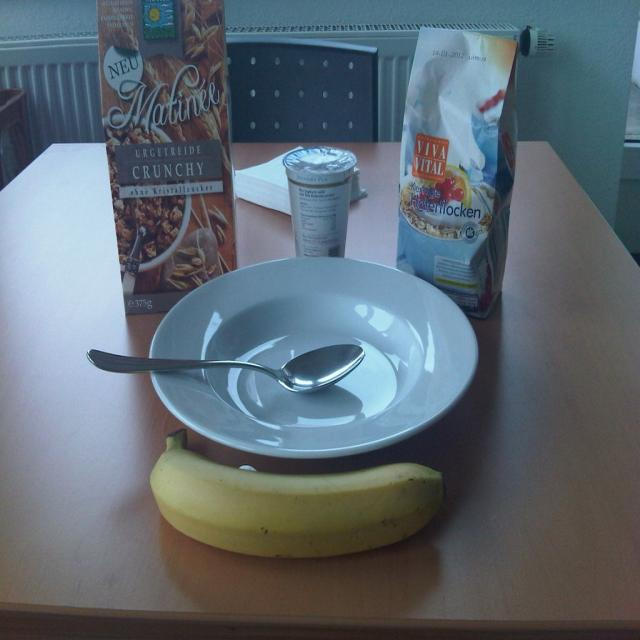non-organic waste: (148, 270, 483, 448)
